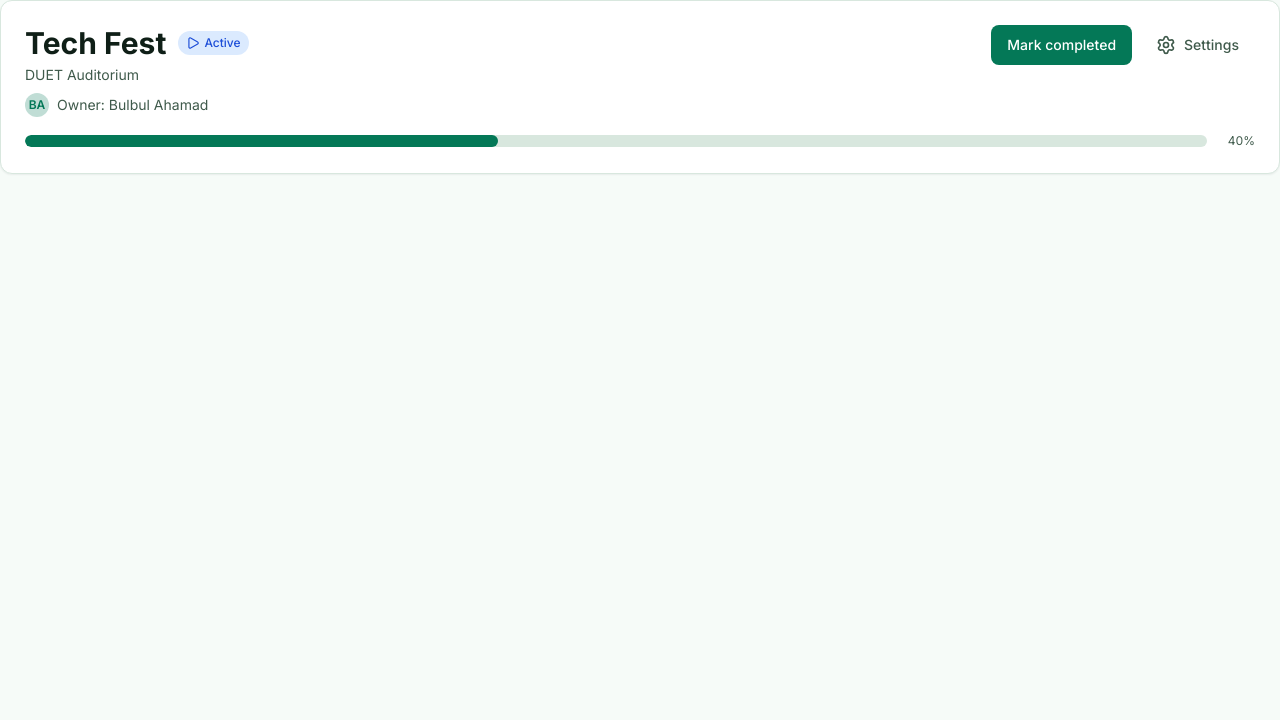
Test: EventHeader › cancel leaves the status alone and shows an error message when the action fails
This screenshot has width=1280, height=720.
Click the button "Mark completed". click: (1062, 45)
box: [991, 25, 1132, 65]
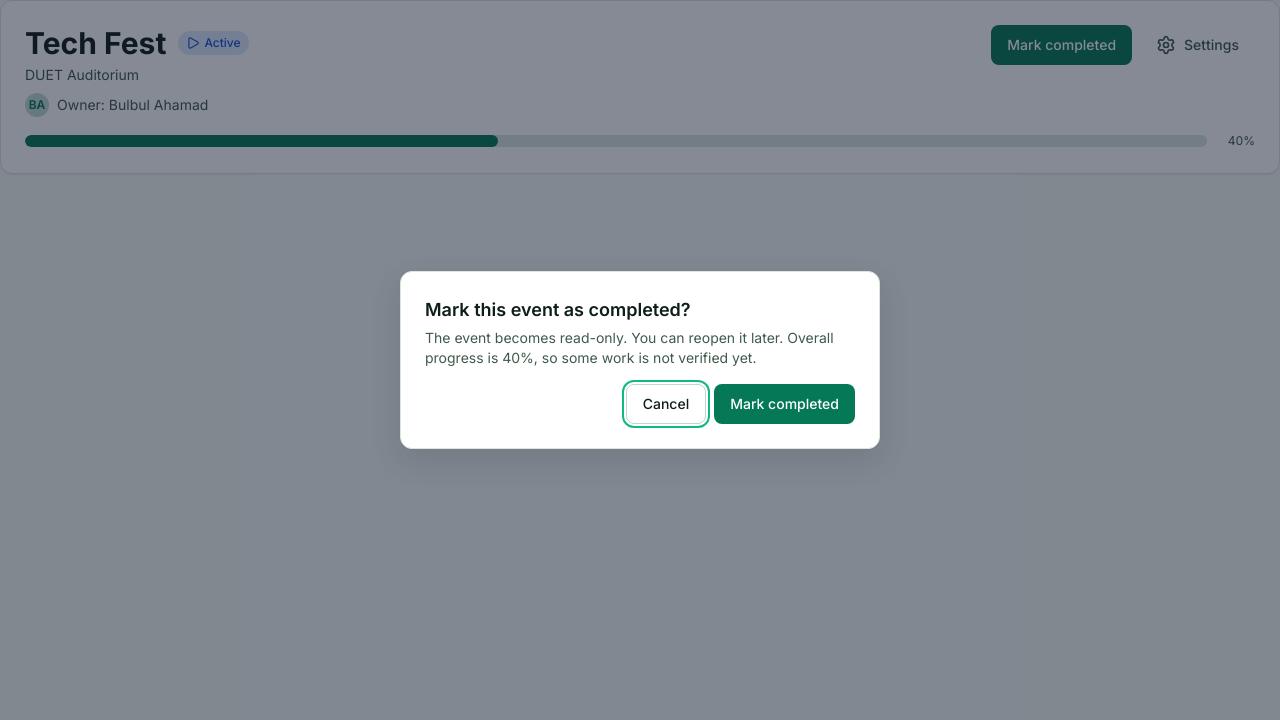
Click the button "Cancel". click: (666, 404)
box: [626, 384, 706, 424]
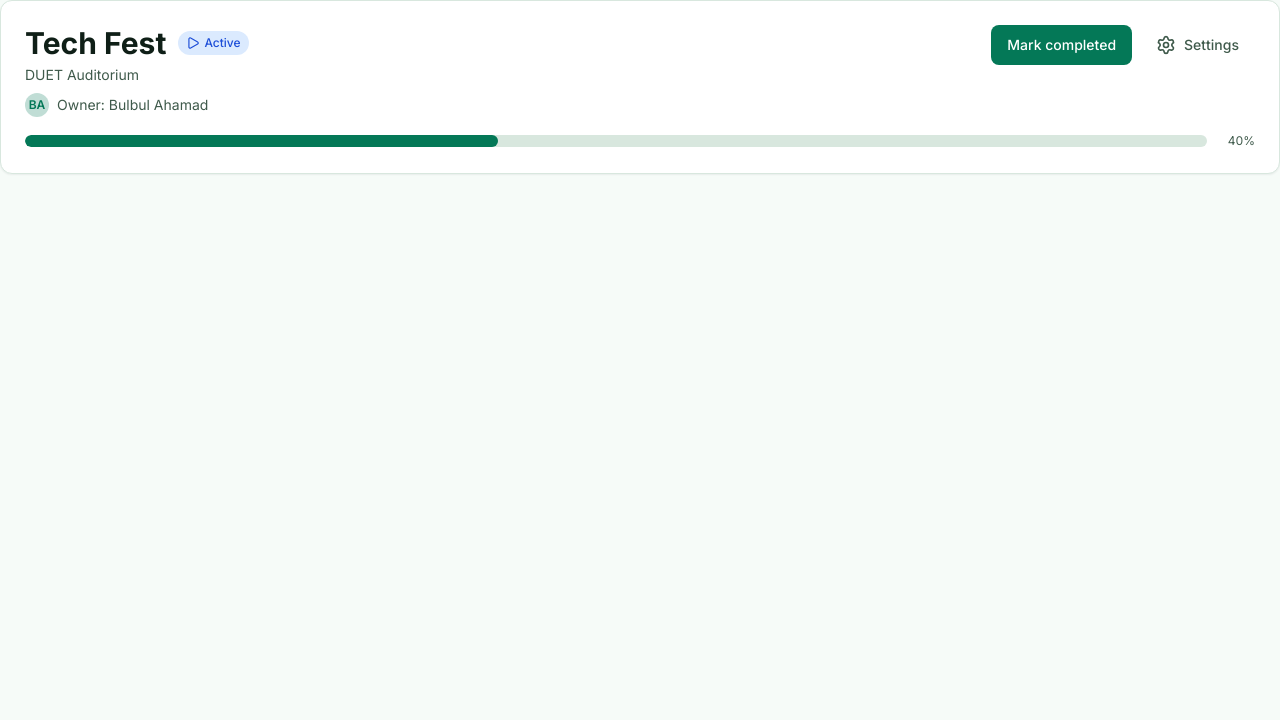
Click the button "Mark completed". click: (1062, 45)
box: [991, 25, 1132, 65]
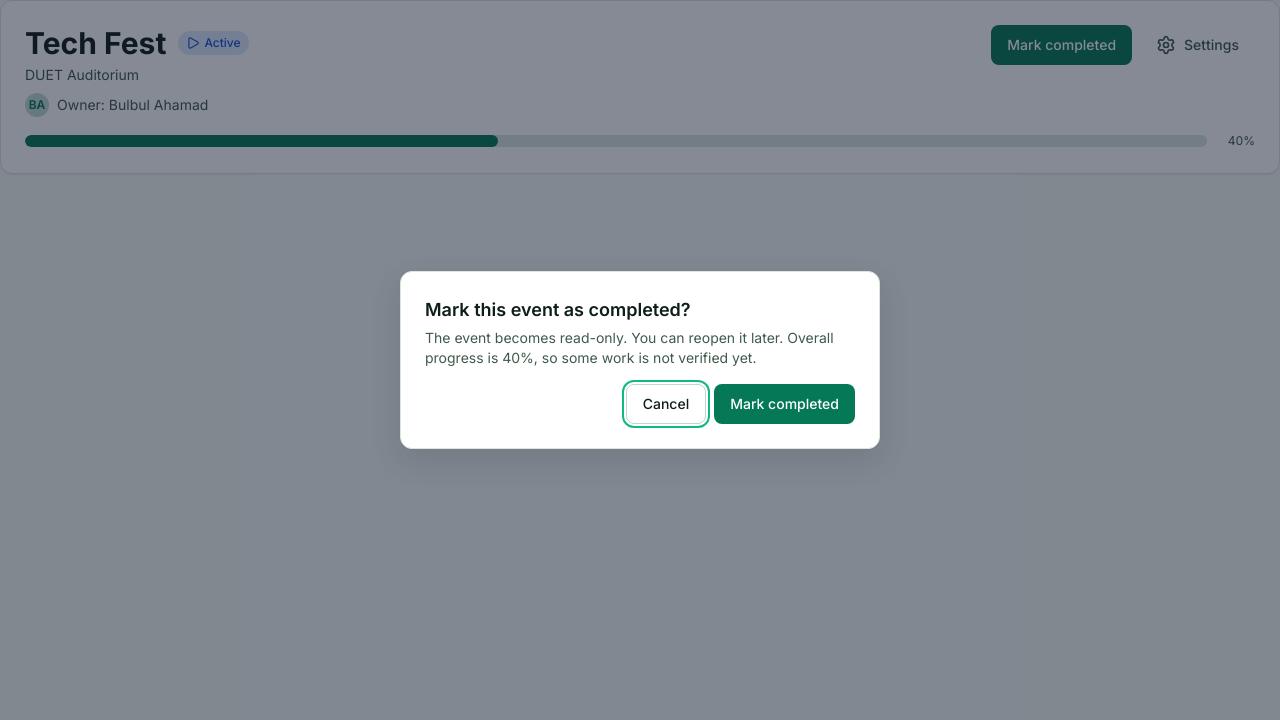
Click the button "Mark completed". click: (785, 404)
box: [714, 384, 855, 424]
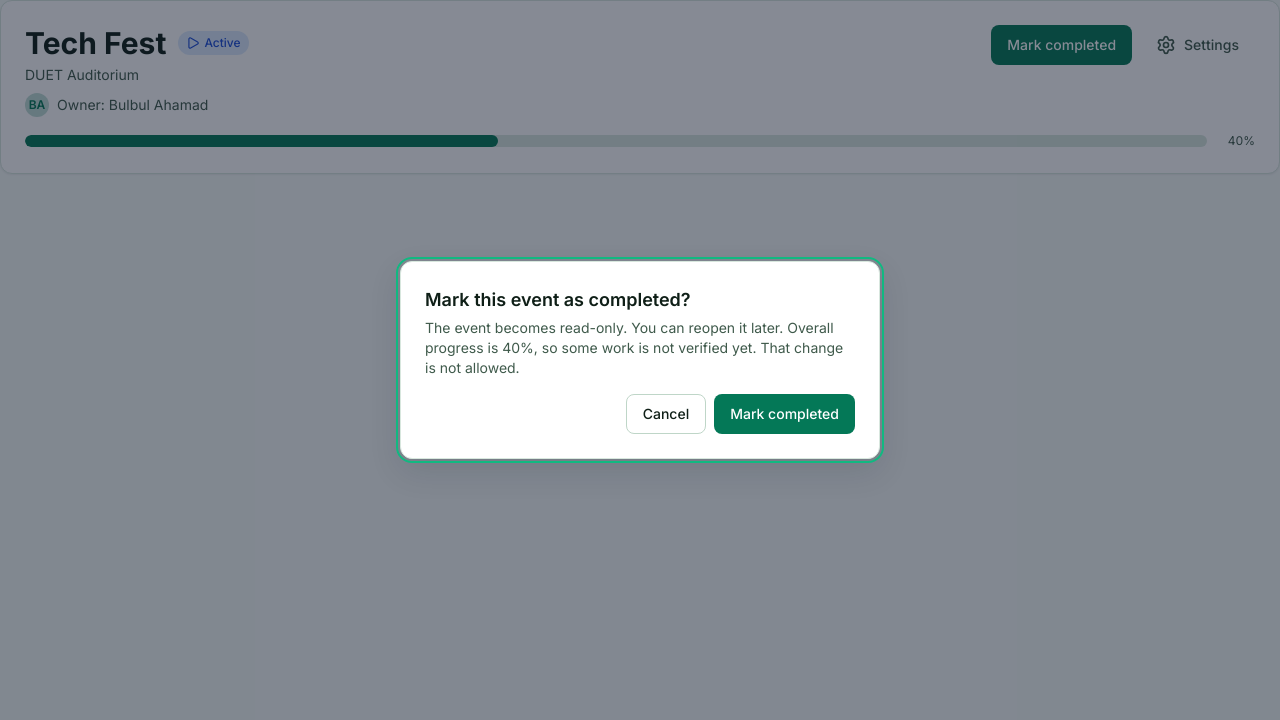
Expected: the text "That change is not allowed." is shown, [425, 319, 843, 376]
